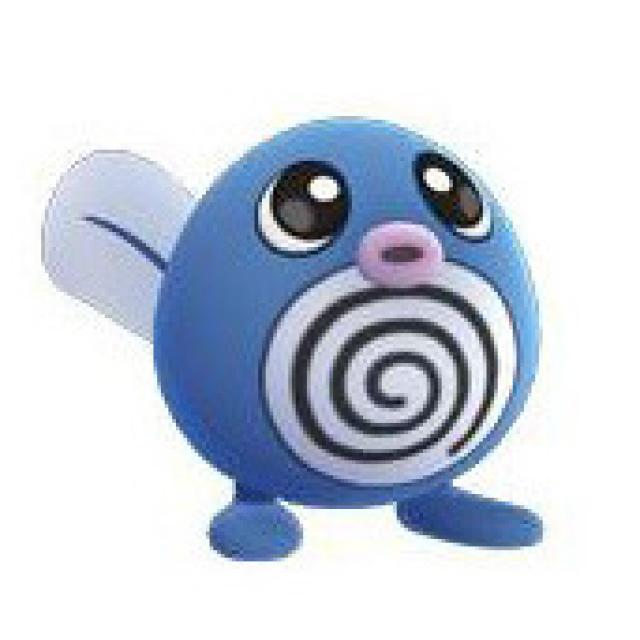Poliwag: (124, 115, 540, 556)
